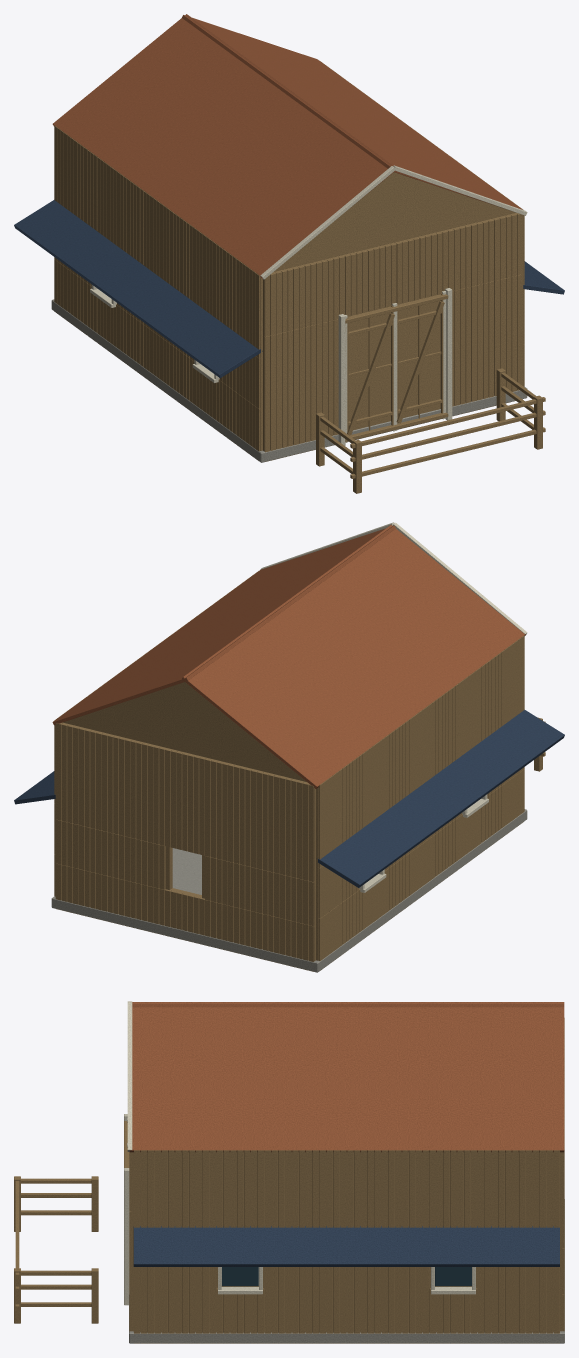
The model's file is BARN22_lod1.glb.
3 views of the same model, one above another, from view 1: azimuth 30°, elevation 25°; view 2: azimuth 150°, elevation 25°; view 3: azimuth 270°, elevation 25° (orthographic). The views are drawn at different scales.
Visible parts, largest first — view 1: BARN22_LOD1; view 2: BARN22_LOD1; view 3: BARN22_LOD1.
Boxes of the visible parts, x1=… form: BARN22_LOD1: x1=14, y1=14, x2=564, y2=493; BARN22_LOD1: x1=14, y1=522, x2=564, y2=972; BARN22_LOD1: x1=14, y1=1001, x2=564, y2=1343.
Size of the model in its own units: 10.71 by 7.84 by 14.22.
9 materials, 7 textured.
